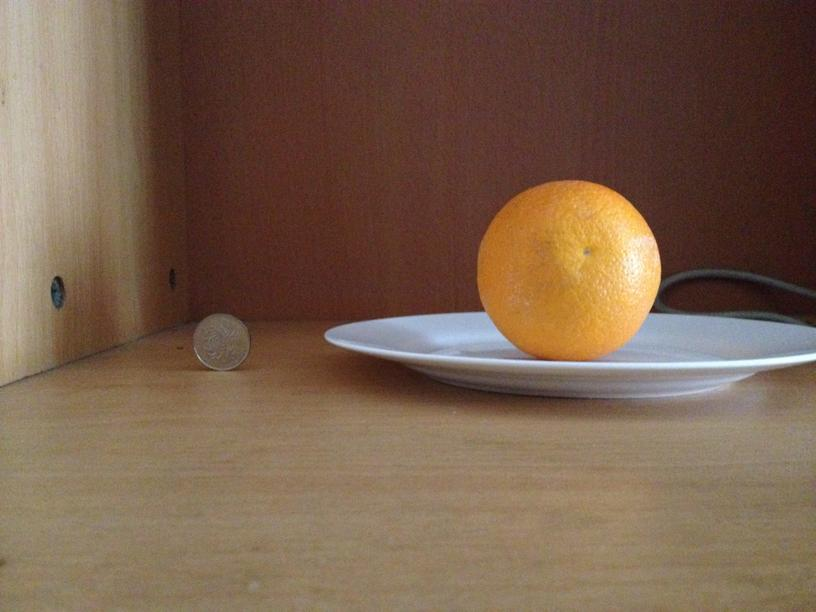coin: (192, 312, 252, 371)
orange: (479, 182, 664, 358)
